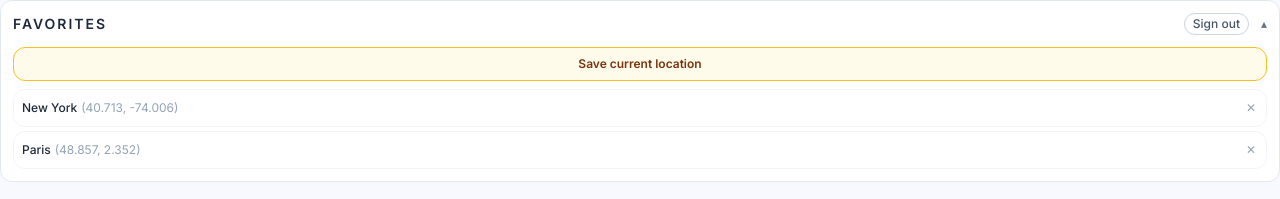
Test: FavoritesPanel — authenticated › removes a favorite from the list when delete is clicked
Expected: the button "Paris(48.857, 2.352)" is shown, 22,142 -> 1236,158
Click the button named "Delete Paris": (1251, 150) 1244,140 -> 1258,160
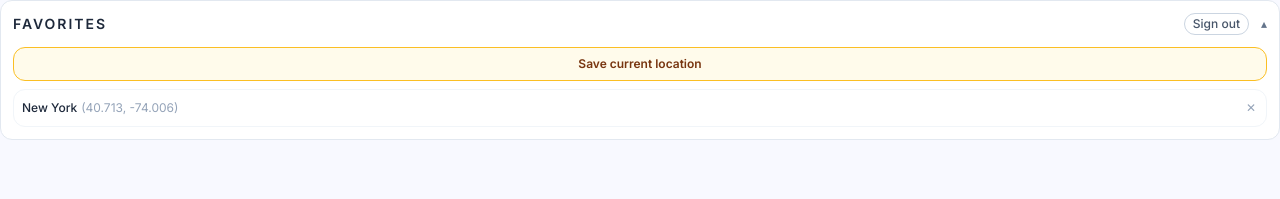
Expected: the button "Paris" is gone
